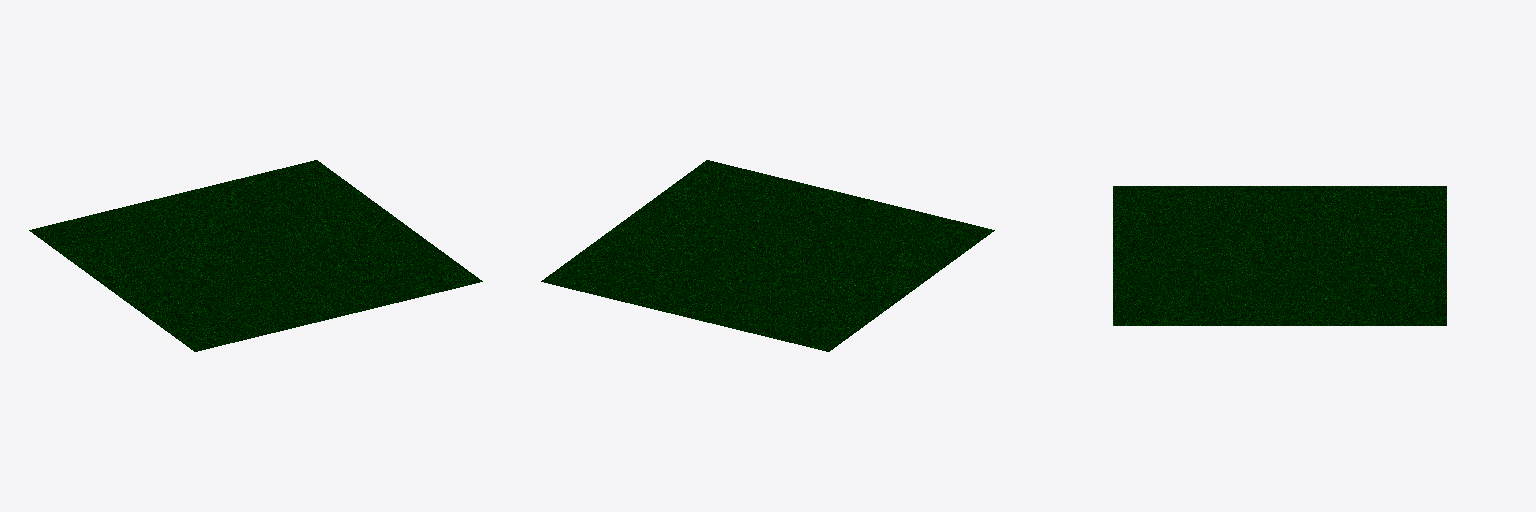
The picture shows the model from 3 angles: view 1: azimuth 30°, elevation 25°; view 2: azimuth 150°, elevation 25°; view 3: azimuth 270°, elevation 25°; orthographic projection.
Visible parts, largest first — view 1: Plane; view 2: Plane; view 3: Plane.
Part boxes in pixels (x1,y1,x2,y2): Plane: (29,160,482,351); Plane: (541,160,994,351); Plane: (1113,186,1446,325).
Size of the model in its own units: 2 by 0 by 2.
Materials: 1 (1 with a texture image).